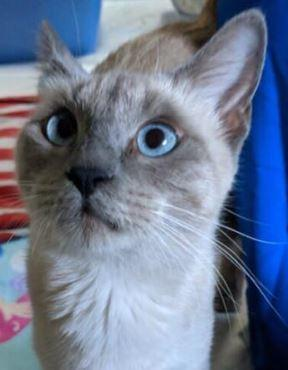siamese: (9, 5, 277, 286)
